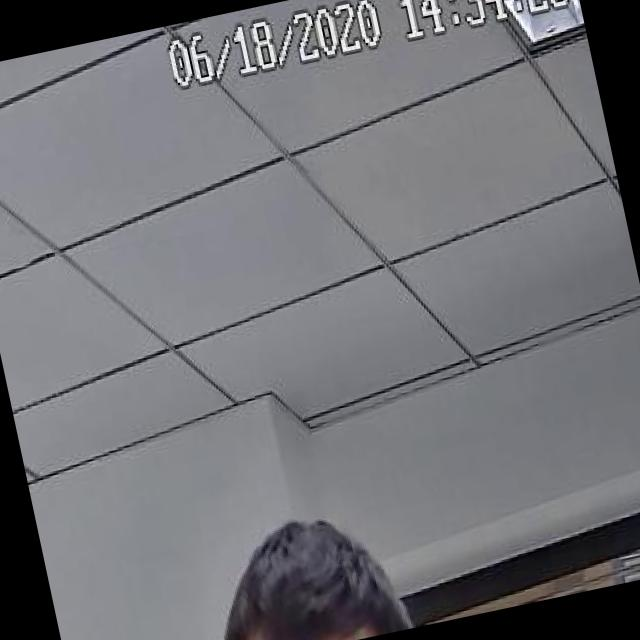Guns: (10, 398, 89, 640)
